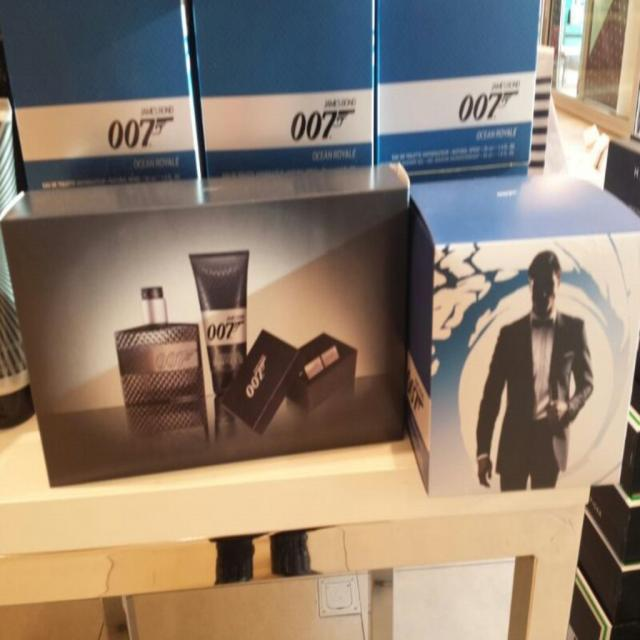Box: (0, 0, 639, 489), (0, 557, 526, 639)
